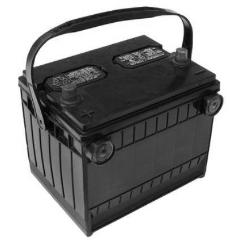electronic: (11, 9, 235, 240)
